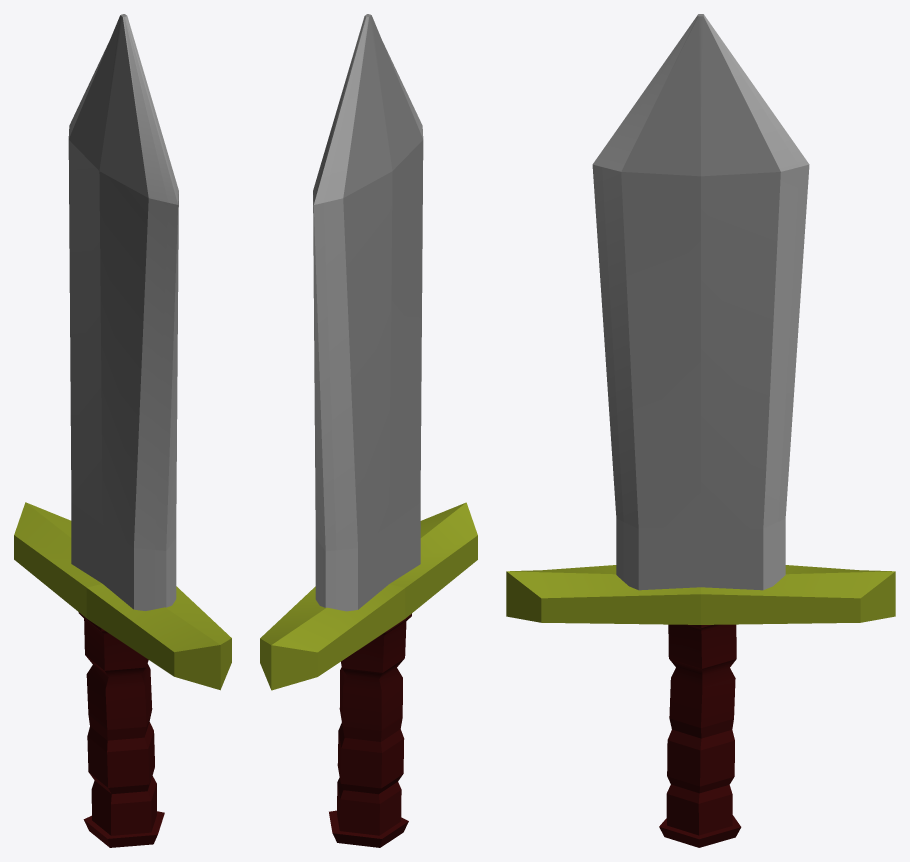
Rendered from HeroMinionSword.fbx.
3 views of the same model, side by side, from view 1: azimuth 30°, elevation 25°; view 2: azimuth 150°, elevation 25°; view 3: azimuth 270°, elevation 25° (orthographic).
Parts seen in each view (by area): view 1: HeroMinionSword; view 2: HeroMinionSword; view 3: HeroMinionSword.
Part boxes in pixels (box(x1,y1,x2,y2)): HeroMinionSword: box(14, 14, 231, 847); HeroMinionSword: box(260, 14, 477, 847); HeroMinionSword: box(506, 14, 895, 847).
Bounding box in the file's own units: 0.1031 × 1.04 × 0.4504.
